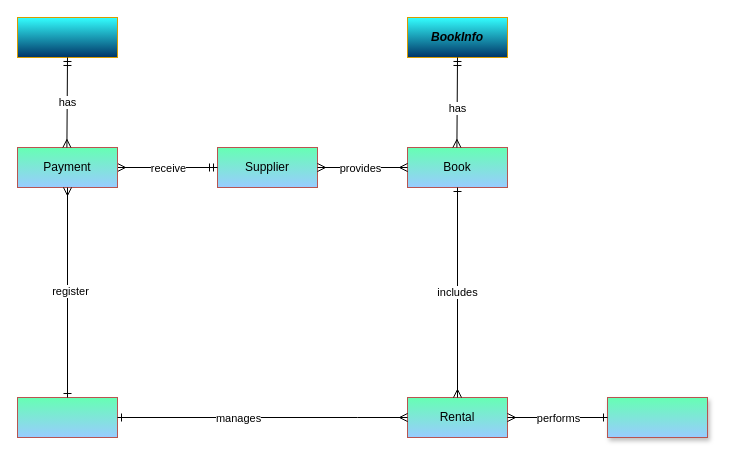
Image size: 731x462. Some labels were removed from this diagram. Each missing label, with the centre of its shape:
Employee: the point at 67,417
PaymentInfo: the point at 67,37
User: the point at 658,418
